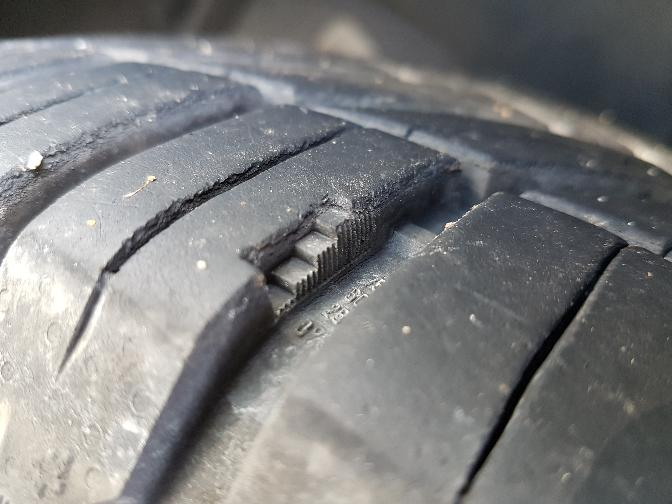temoin:90: (228, 177, 399, 334)
